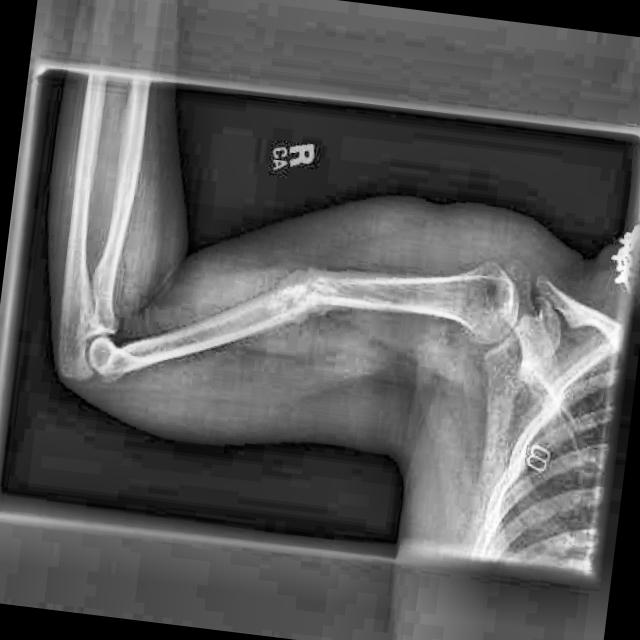humerus: (234, 239, 366, 378)
